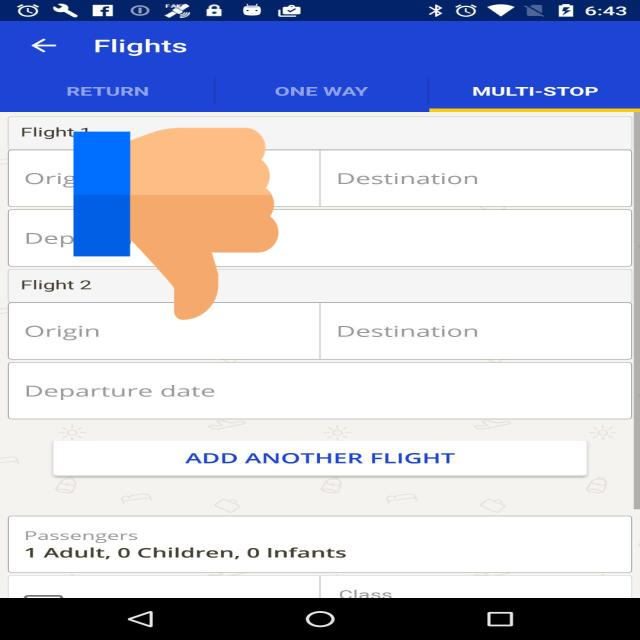obstruction: (74, 123, 278, 325)
